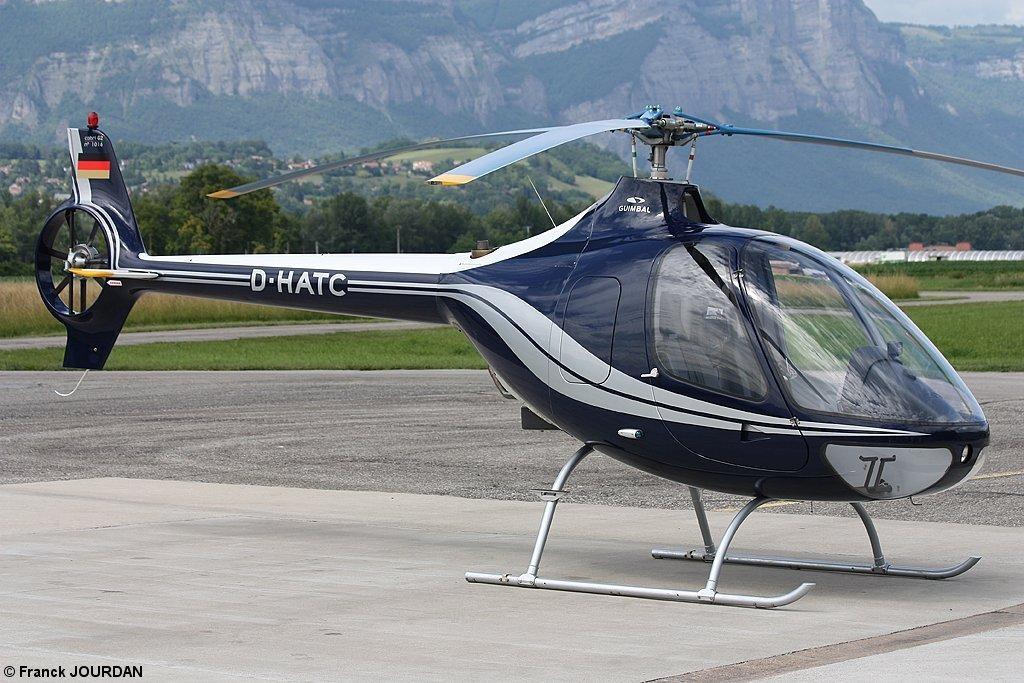airplane: (39, 89, 993, 608)
